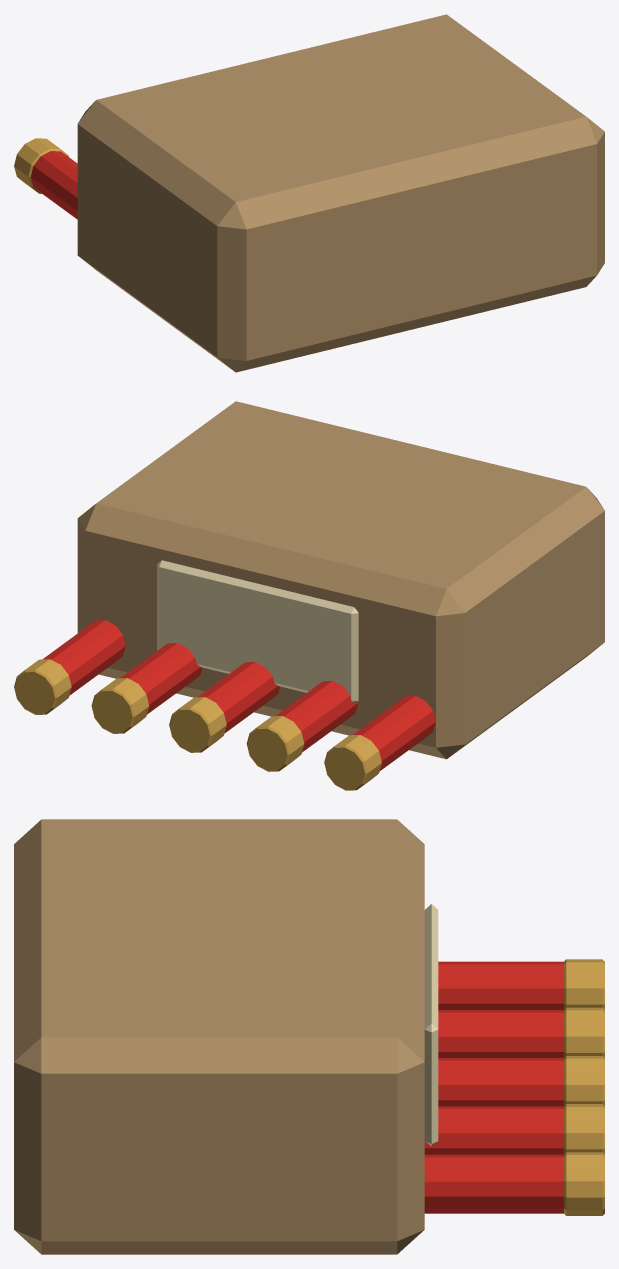
Rendered from item_shells.glb.
The picture shows the model from 3 angles, top to bottom: view 1: azimuth 30°, elevation 25°; view 2: azimuth 150°, elevation 25°; view 3: azimuth 270°, elevation 25°; orthographic projection. The views are drawn at different scales.
Visible parts, largest first — view 1: item_shells; view 2: item_shells; view 3: item_shells.
Part boxes in pixels (<box>): item_shells: <box>14,14,604,372</box>; item_shells: <box>14,401,604,790</box>; item_shells: <box>14,819,604,1254</box>.
Bounding box in the file's own units: 0.25 × 0.105 × 0.259.
